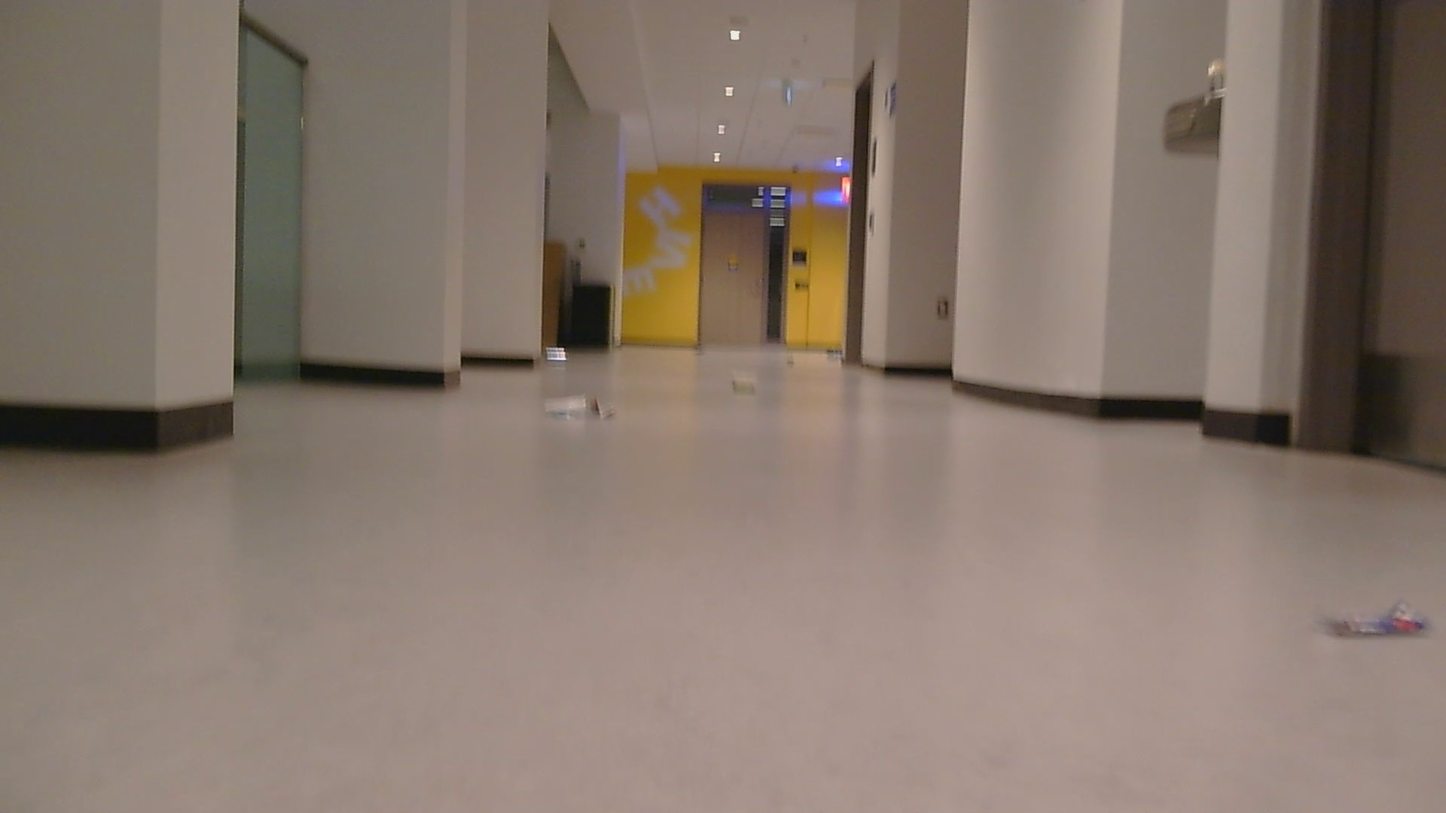carton: (1307, 584, 1429, 660), (539, 385, 610, 427), (718, 367, 771, 394), (538, 339, 580, 359), (818, 346, 855, 364), (788, 357, 801, 374)
